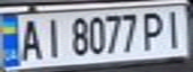0: (87, 12, 106, 56)
7: (121, 10, 142, 53), (103, 11, 124, 54)
8: (66, 14, 90, 56)
A: (15, 16, 45, 62)
I: (160, 7, 190, 50), (39, 15, 66, 60)
P: (139, 8, 169, 52)
